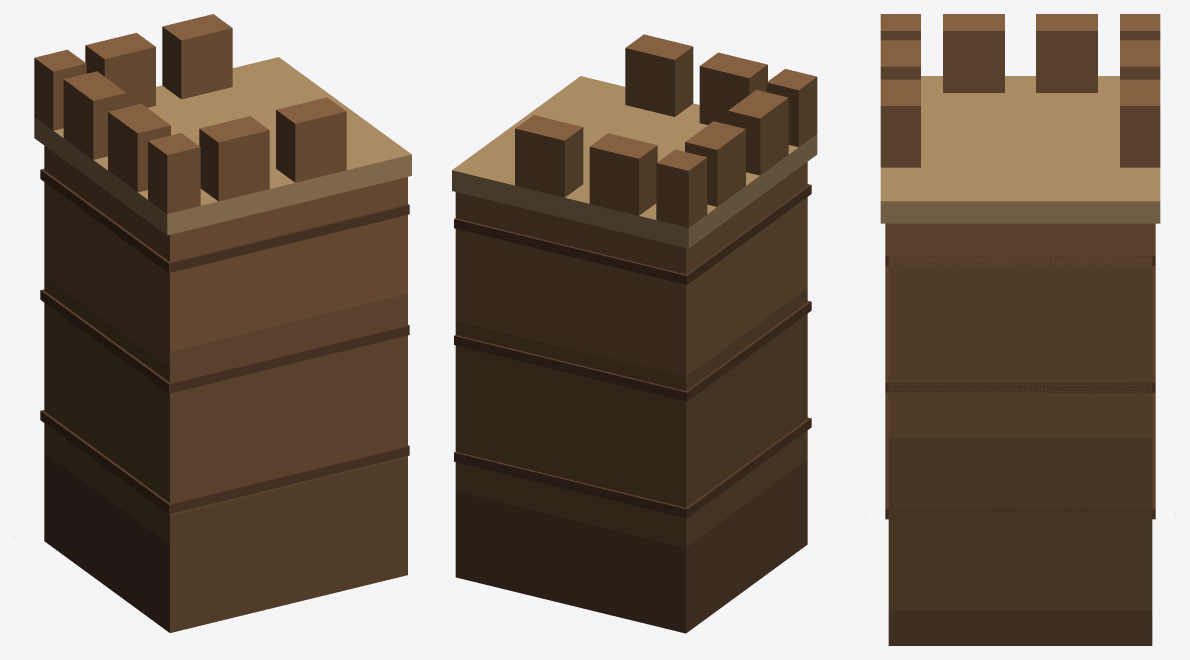
Rendered from perimeter_wall_wood_end.glb.
3 views of the same model, side by side, from view 1: azimuth 30°, elevation 25°; view 2: azimuth 150°, elevation 25°; view 3: azimuth 270°, elevation 25° (orthographic). The views are drawn at different scales.
Size of the model in its own units: 2.01 by 3.6 by 2.
1 material, 1 textured.
